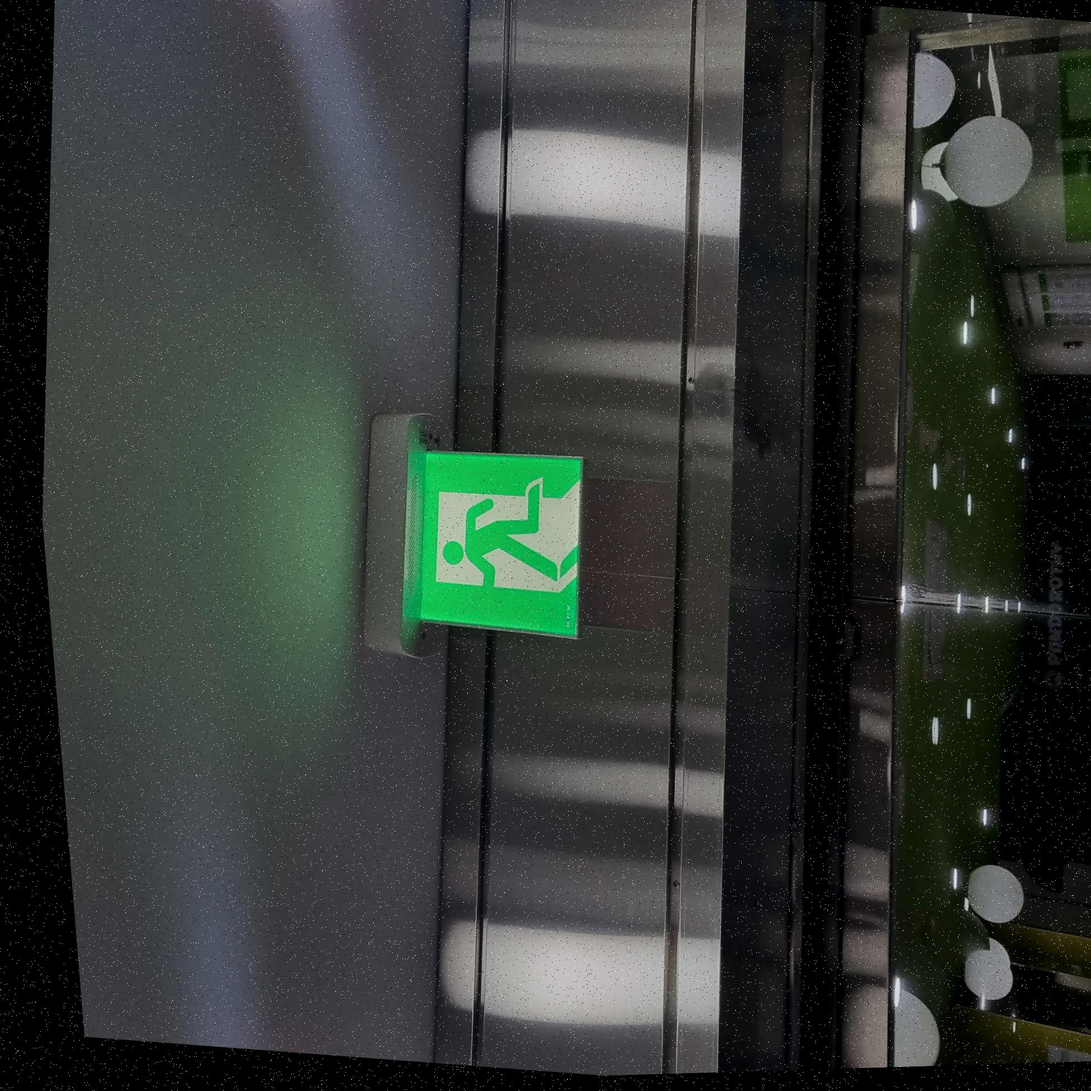emergency_exit: (365, 410, 588, 660), (406, 443, 585, 643)
